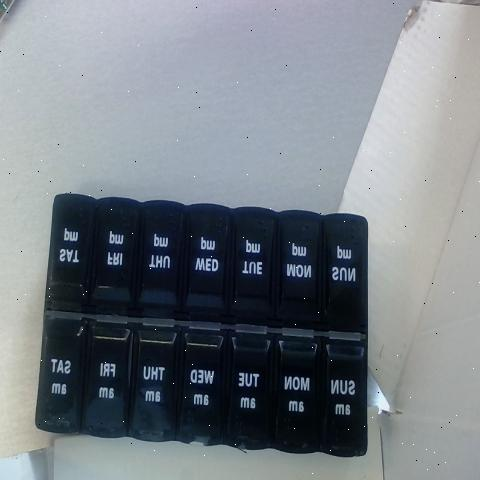FRI-am: (88, 331, 128, 432)
FRI-pm: (90, 200, 132, 307)
MON-am: (280, 346, 320, 446)
MON-pm: (279, 215, 319, 326)
SAT-am: (37, 323, 80, 421)
SAT-pm: (50, 200, 91, 308)
SUN-am: (321, 348, 365, 448)
SUN-pm: (321, 217, 366, 334)
THU-am: (138, 339, 176, 440)
THU-pm: (140, 212, 179, 315)
TUE-am: (231, 341, 269, 445)
TUE-pm: (232, 214, 277, 320)
WED-am: (182, 338, 222, 439)
WED-pm: (186, 213, 227, 317)
